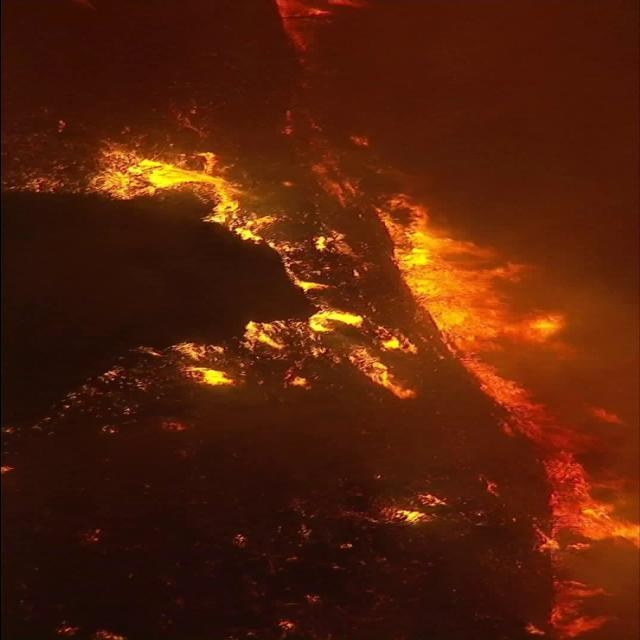Fire: (64, 158, 626, 634)
